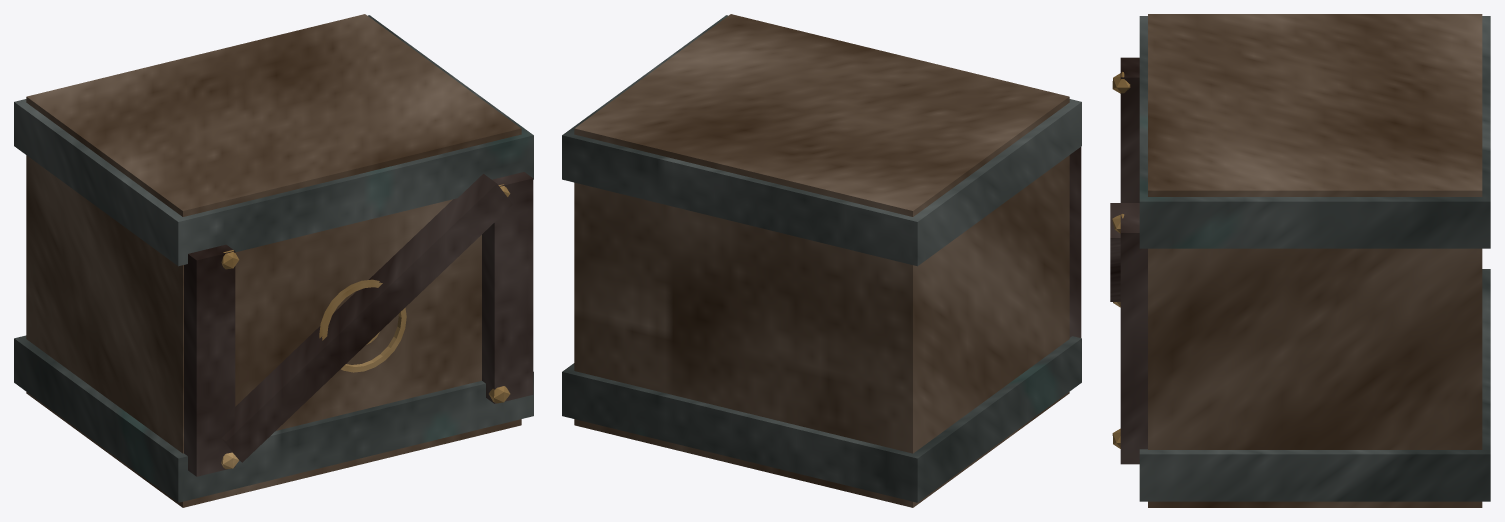
File: 0737_supply_crate_12.glb
3 views of the same model, side by side, from view 1: azimuth 30°, elevation 25°; view 2: azimuth 150°, elevation 25°; view 3: azimuth 270°, elevation 25° (orthographic). The views are drawn at different scales.
Visible parts, largest first — view 1: wood, iron, wood_dark, brass; view 2: wood, iron, wood_dark; view 3: wood, iron, wood_dark, brass.
Boxes of the visible parts, x1,y1,x2,y2 form: wood: (26, 14, 521, 507); iron: (14, 15, 533, 502); wood_dark: (184, 172, 533, 476); brass: (221, 184, 510, 468); wood: (574, 14, 1069, 507); iron: (562, 15, 1081, 502); wood_dark: (1069, 147, 1081, 337); wood: (1148, 14, 1482, 507); iron: (1139, 16, 1490, 501); wood_dark: (1110, 57, 1147, 464); brass: (1112, 72, 1130, 448).
Bounding box in the file's own units: 0.9246 × 0.7377 × 0.8011.
Materials: 4 (4 with a texture image).
